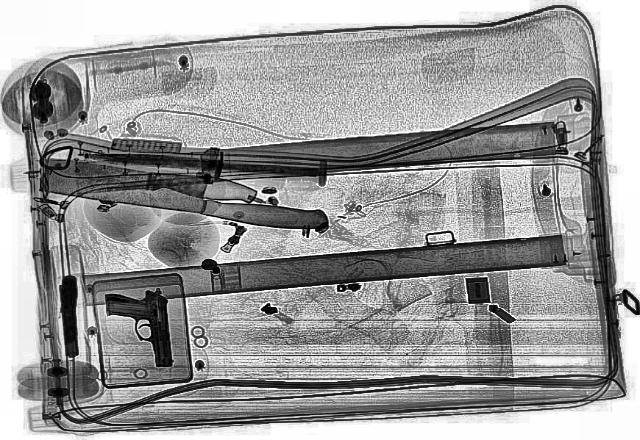Gun: (104, 288, 172, 368), (56, 274, 80, 358)
Knife: (36, 154, 337, 230), (32, 152, 260, 204), (88, 148, 316, 180)
